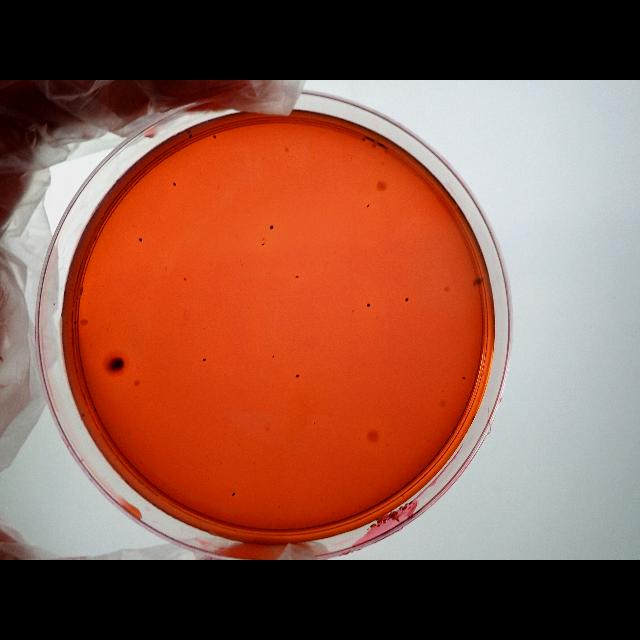colony: (105, 353, 135, 375), (72, 320, 78, 326), (138, 237, 144, 243), (212, 134, 218, 140), (80, 412, 86, 418), (232, 491, 236, 497), (189, 133, 193, 139), (404, 298, 410, 302), (366, 302, 370, 308), (202, 358, 208, 362), (270, 224, 274, 230), (94, 406, 98, 412), (173, 182, 177, 186), (366, 204, 370, 208), (462, 376, 466, 380), (261, 242, 265, 246), (295, 275, 299, 279), (296, 374, 300, 378)
